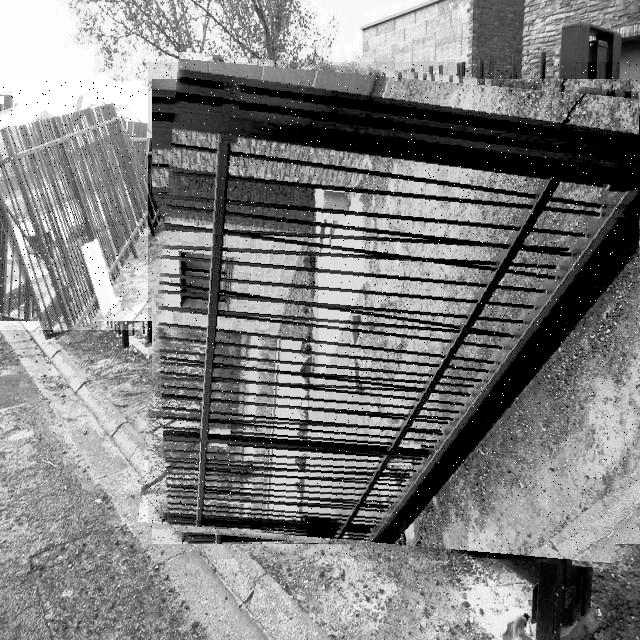fences: (148, 62, 640, 559), (0, 81, 170, 330)
